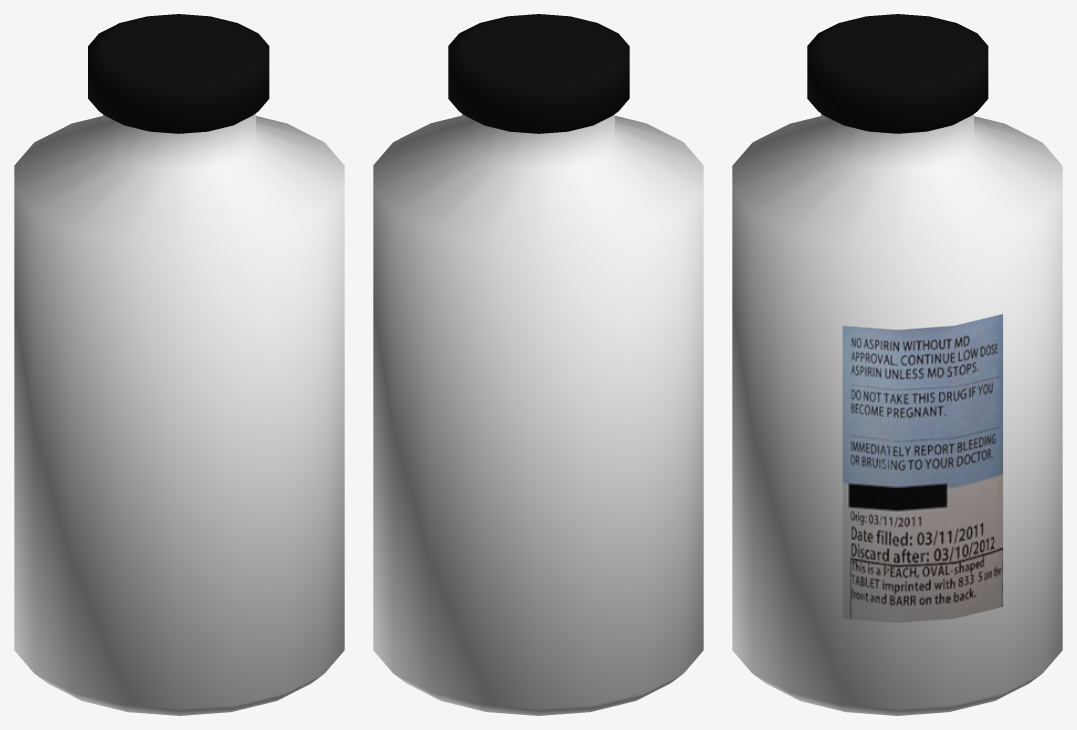
File: Medicine 2.FBX
3 renders of one model, left to right at view 1: azimuth 30°, elevation 25°; view 2: azimuth 150°, elevation 25°; view 3: azimuth 270°, elevation 25°, orthographic.
Parts seen in each view (by area): view 1: medicine 2; view 2: medicine 2; view 3: medicine 2.
Boxes of the visible parts, x1=… form: medicine 2: x1=14, y1=14, x2=344, y2=715; medicine 2: x1=373, y1=14, x2=703, y2=715; medicine 2: x1=732, y1=14, x2=1062, y2=715.
Size of the model in its own units: 3.11 by 3.06 by 6.18.
Materials: 1 (1 with a texture image).
